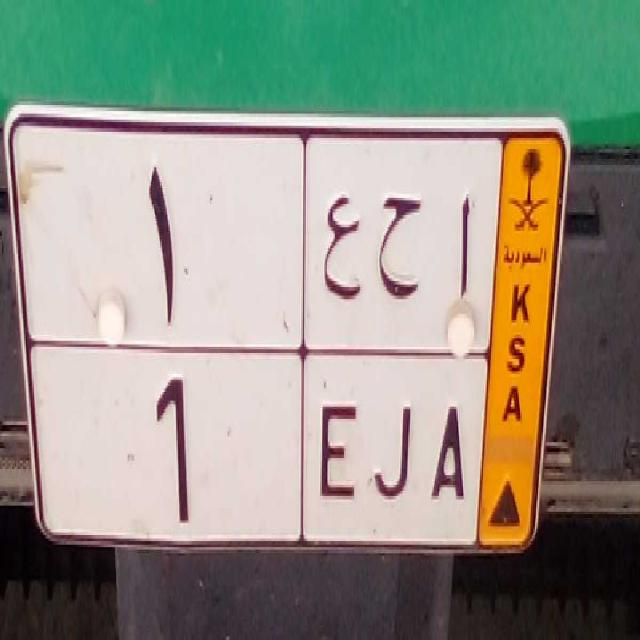license_plate: (27, 340, 486, 550)
